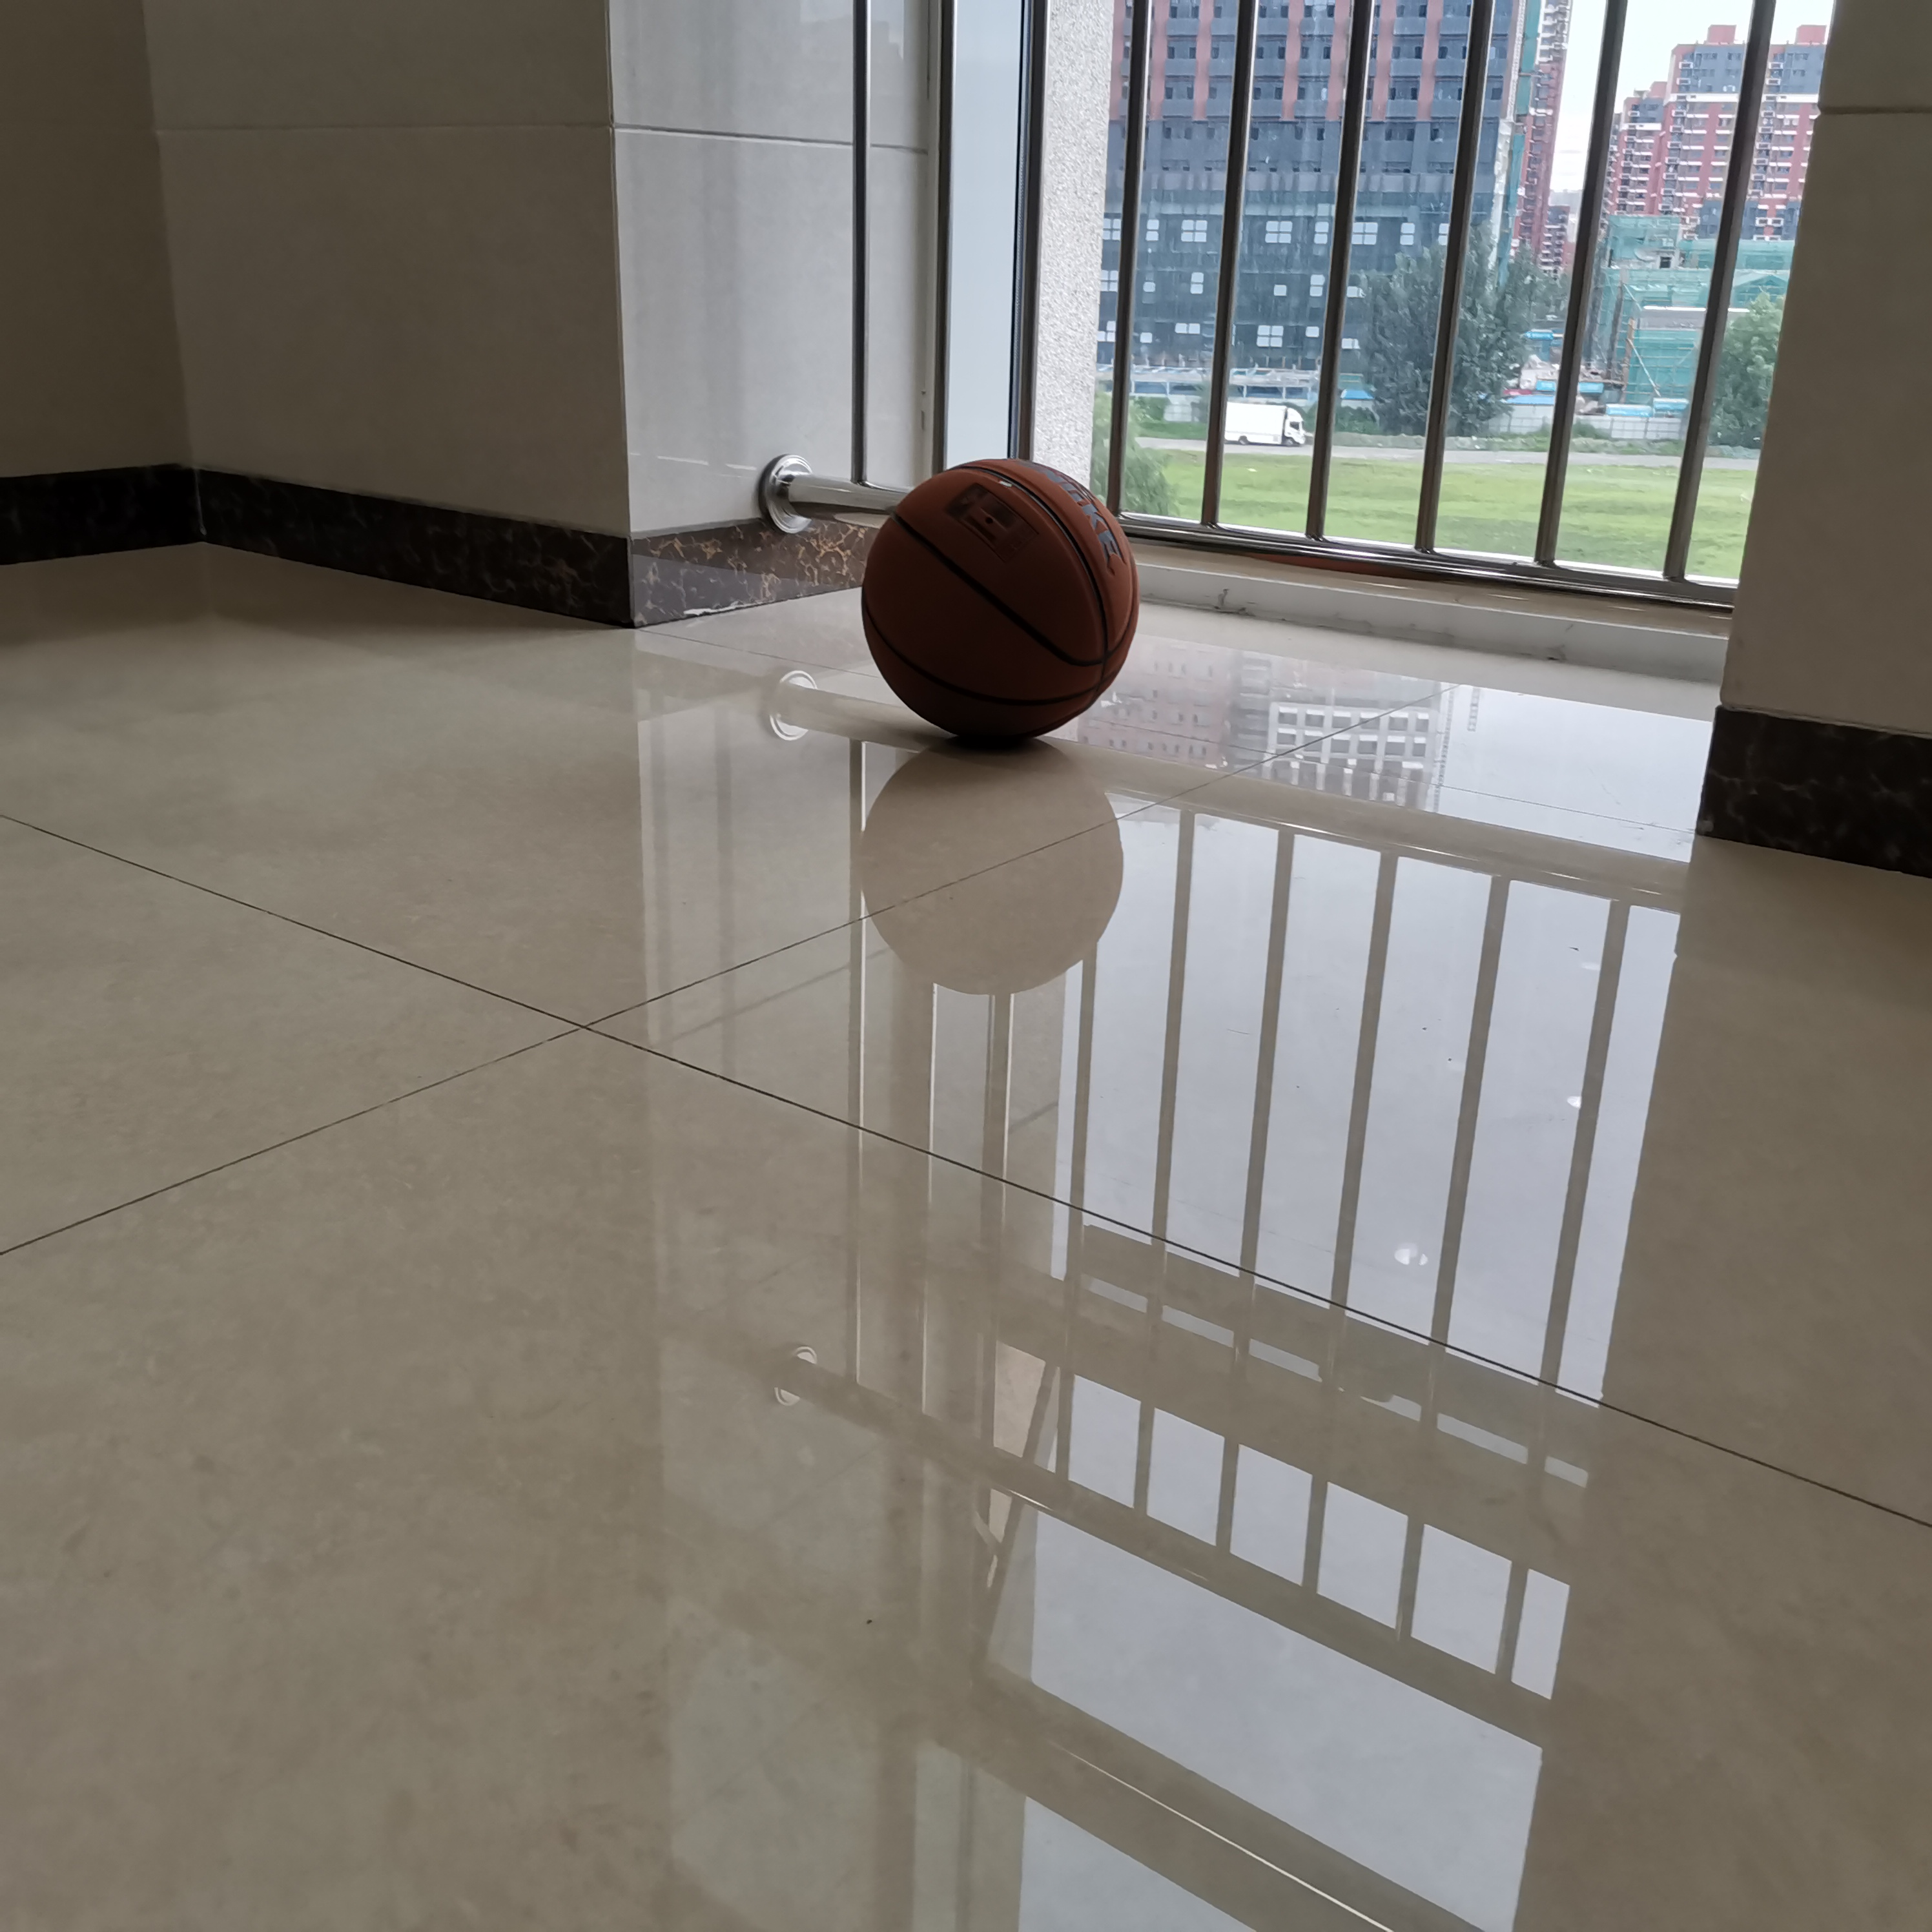basketball: (860, 458, 1139, 745)
